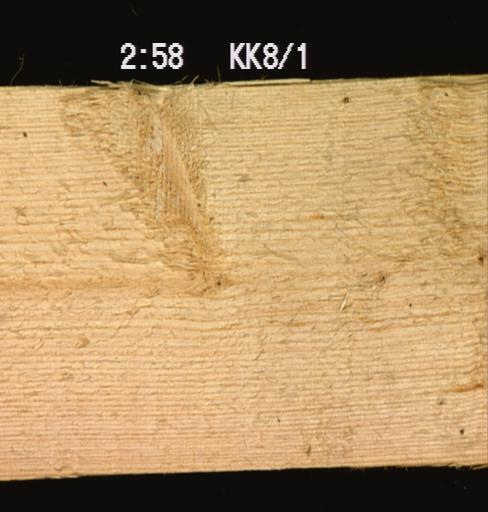small_knot: (475, 253, 484, 264), (340, 94, 348, 105)
